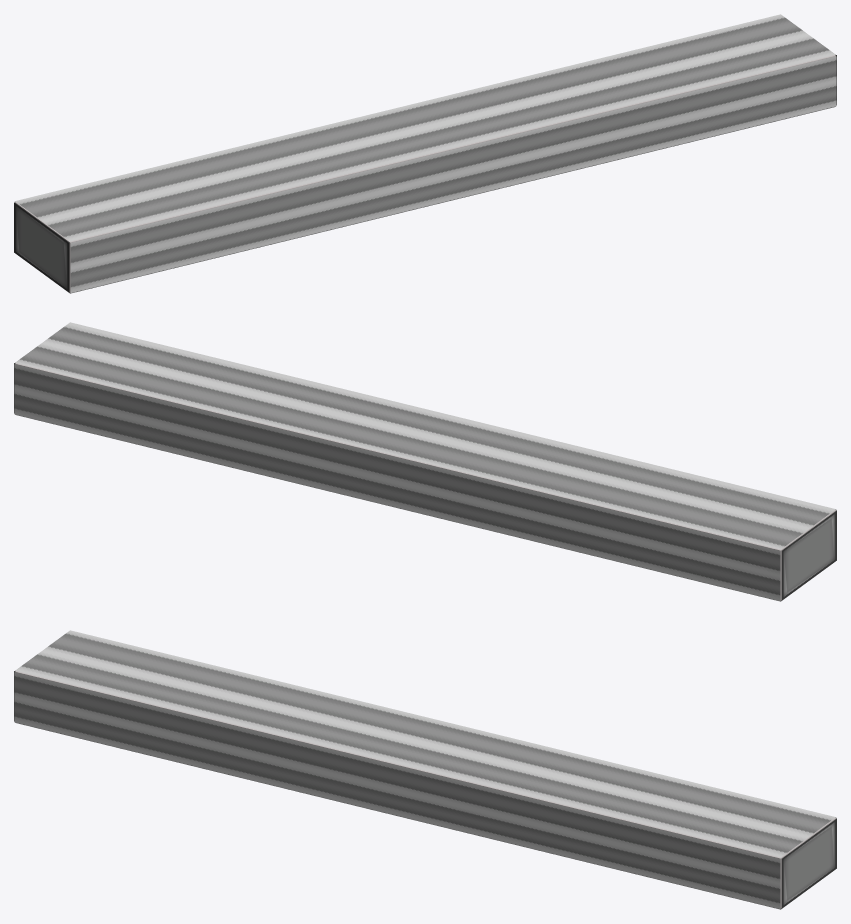
Rendered from rail.obj.
3 views of the same model, one above another, from view 1: azimuth 30°, elevation 25°; view 2: azimuth 150°, elevation 25°; view 3: azimuth 330°, elevation 25° (orthographic).
Visible parts, largest first — view 1: Rail5, Rail6, Rail3, Rail1, Rail2; view 2: Rail5, Rail7, Rail3, Rail1, Rail2; view 3: Rail5, Rail6, Rail4, Rail1, Rail2.
Boxes of the visible parts, bbox=[...] form: Rail5: bbox=[15, 14, 835, 241]; Rail6: bbox=[70, 56, 836, 292]; Rail3: bbox=[14, 202, 69, 292]; Rail1: bbox=[15, 55, 835, 292]; Rail2: bbox=[69, 106, 835, 293]; Rail5: bbox=[15, 322, 835, 549]; Rail7: bbox=[14, 364, 780, 600]; Rail3: bbox=[781, 510, 836, 600]; Rail1: bbox=[15, 363, 835, 600]; Rail2: bbox=[15, 414, 781, 601]; Rail5: bbox=[15, 630, 835, 857]; Rail6: bbox=[14, 672, 780, 908]; Rail4: bbox=[781, 818, 836, 908]; Rail1: bbox=[15, 671, 835, 908]; Rail2: bbox=[15, 722, 781, 909].
Size of the model in its own units: 16.04 by 1.04 by 2.04.
5 materials, 4 textured.
